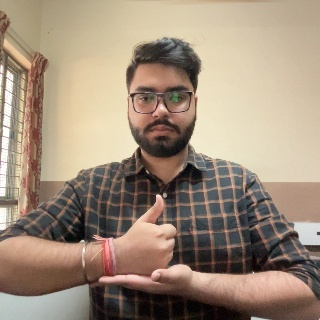Face: (127, 43, 203, 160)
Help: (101, 194, 195, 293)
